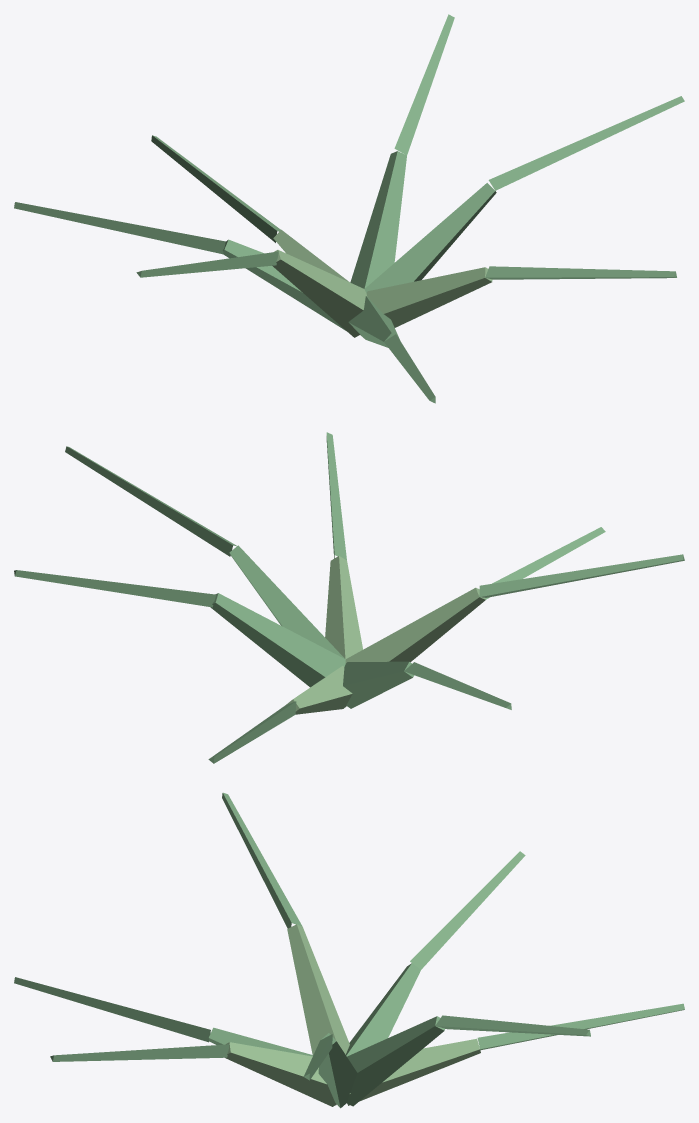
The model's file is fern_v30.glb.
3 renders of one model, top to bottom at view 1: azimuth 30°, elevation 25°; view 2: azimuth 150°, elevation 25°; view 3: azimuth 270°, elevation 25°, orthographic.
Visible parts, largest first — view 1: lod0; view 2: lod0; view 3: lod0.
Part boxes in pixels (box(x1,y1,x2,y2)): lod0: box(14, 14, 684, 403); lod0: box(14, 432, 684, 763); lod0: box(14, 792, 684, 1108).
Size of what is drawn, in the model's own units: 0.9711 by 0.2839 by 0.9725.
